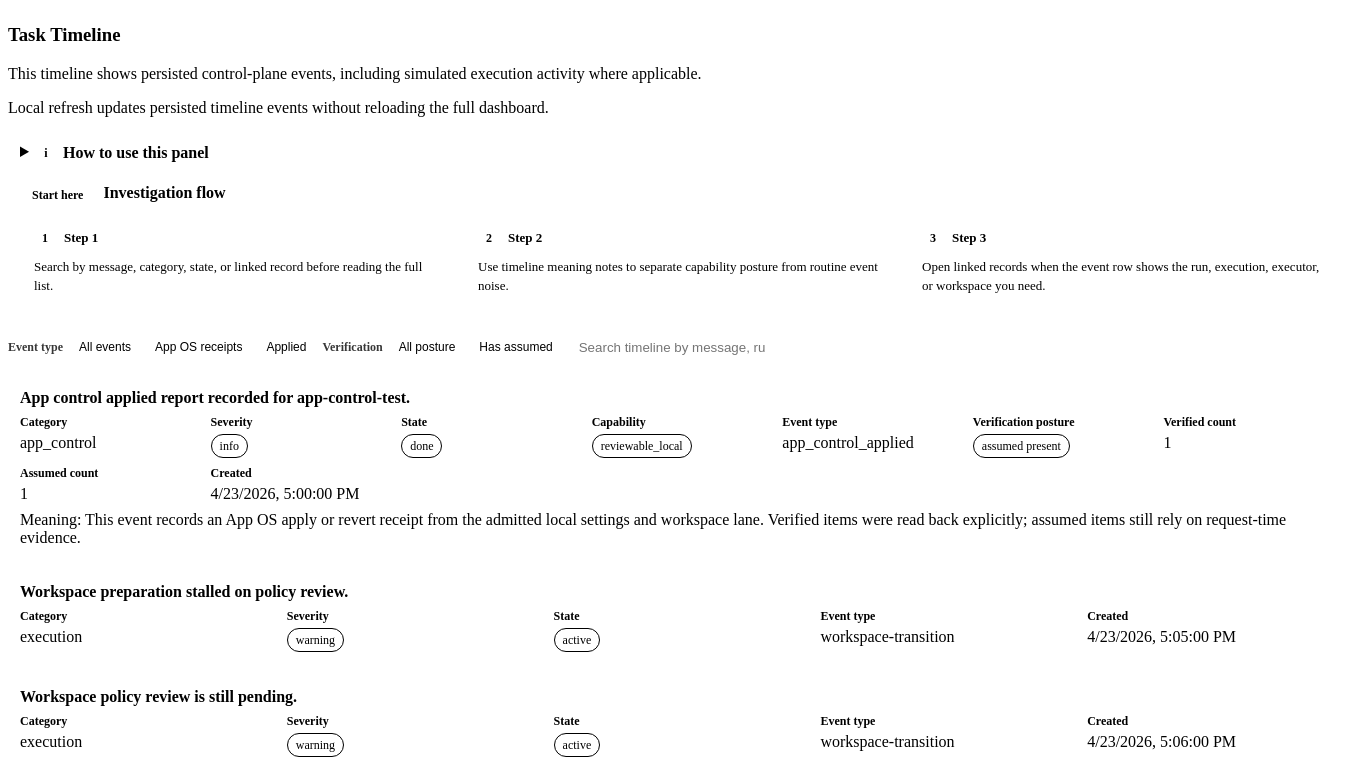
Scenario: TaskTimeline › lets the inline narrowing warning loosen filters when there is no search
Click the button "App OS receipts" at (199, 347), box top-left (147, 338), bottom-right (250, 356)
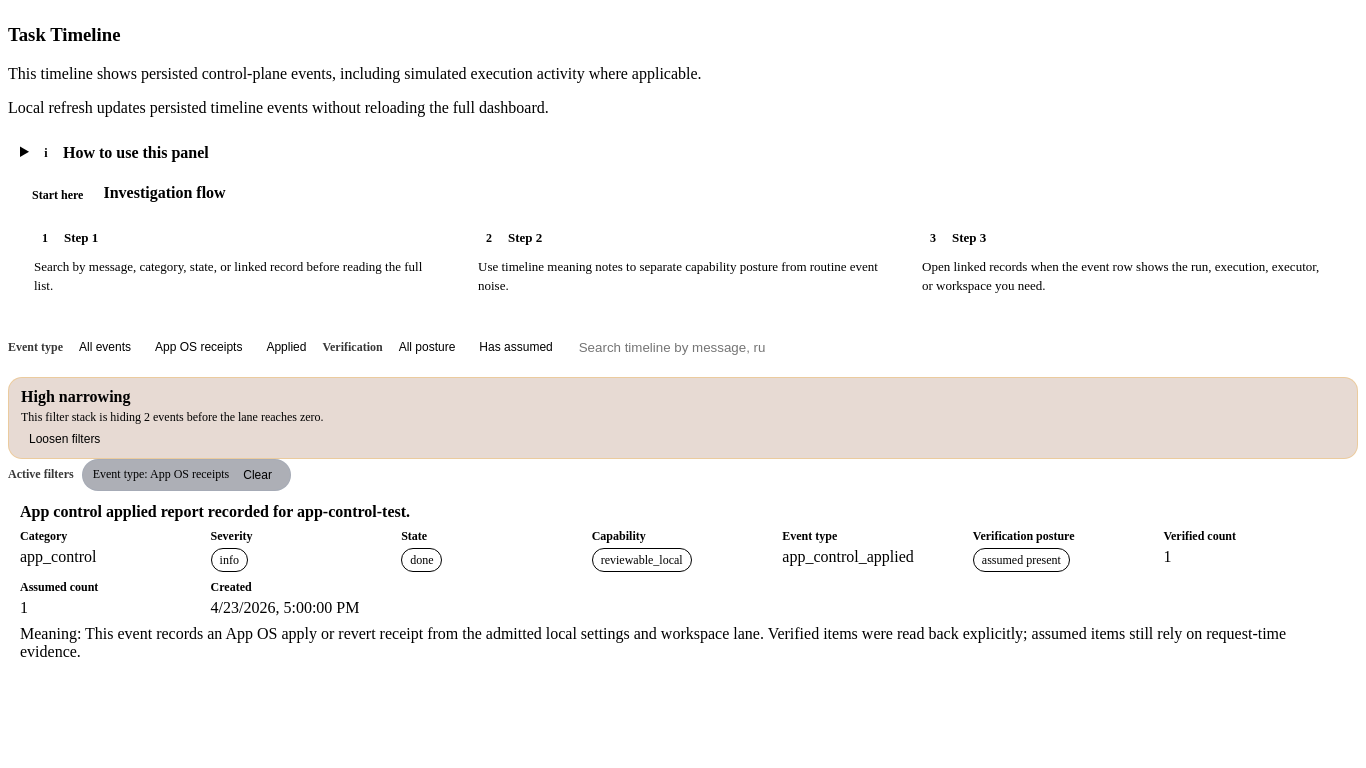
Result: the button "Loosen filters" is shown
Click the button "Loosen filters" at (65, 439), box top-left (21, 430), bottom-right (108, 448)
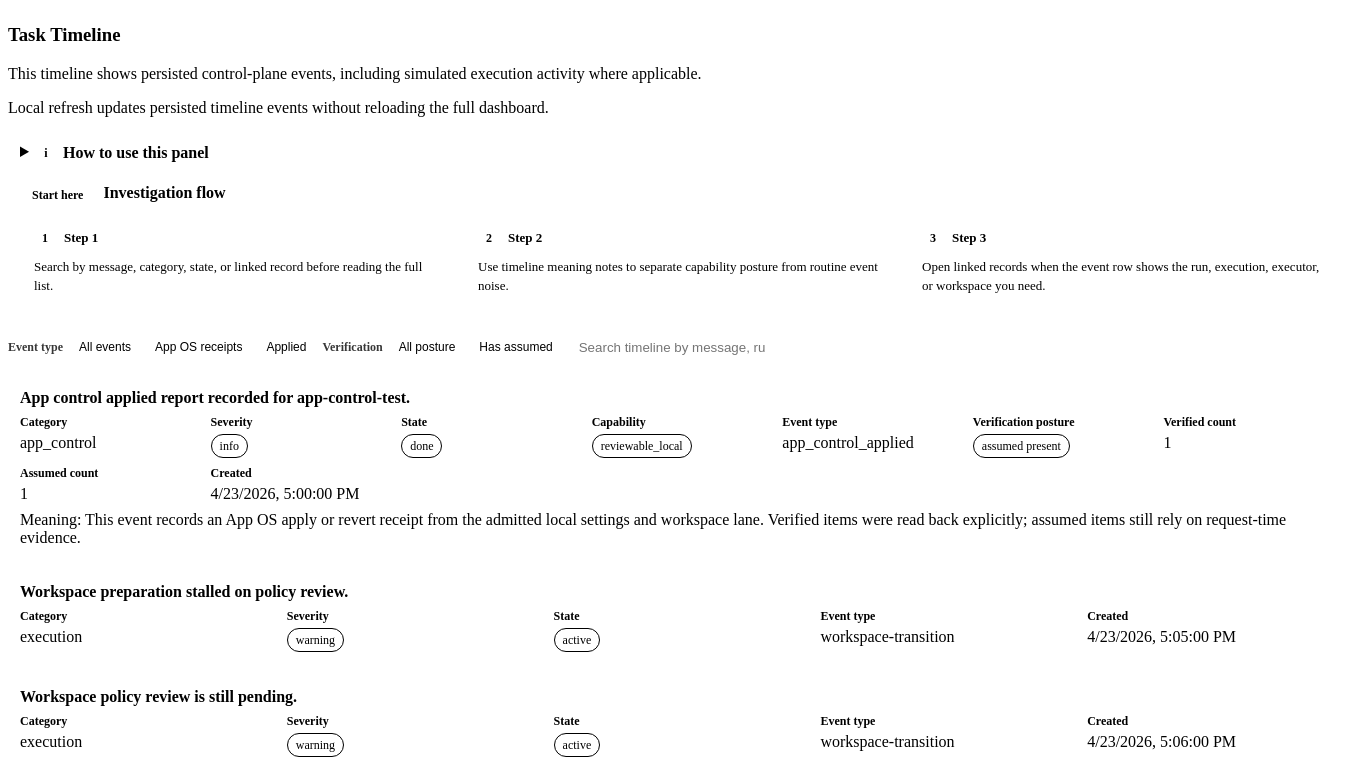
Result: the text "High narrowing" is gone
